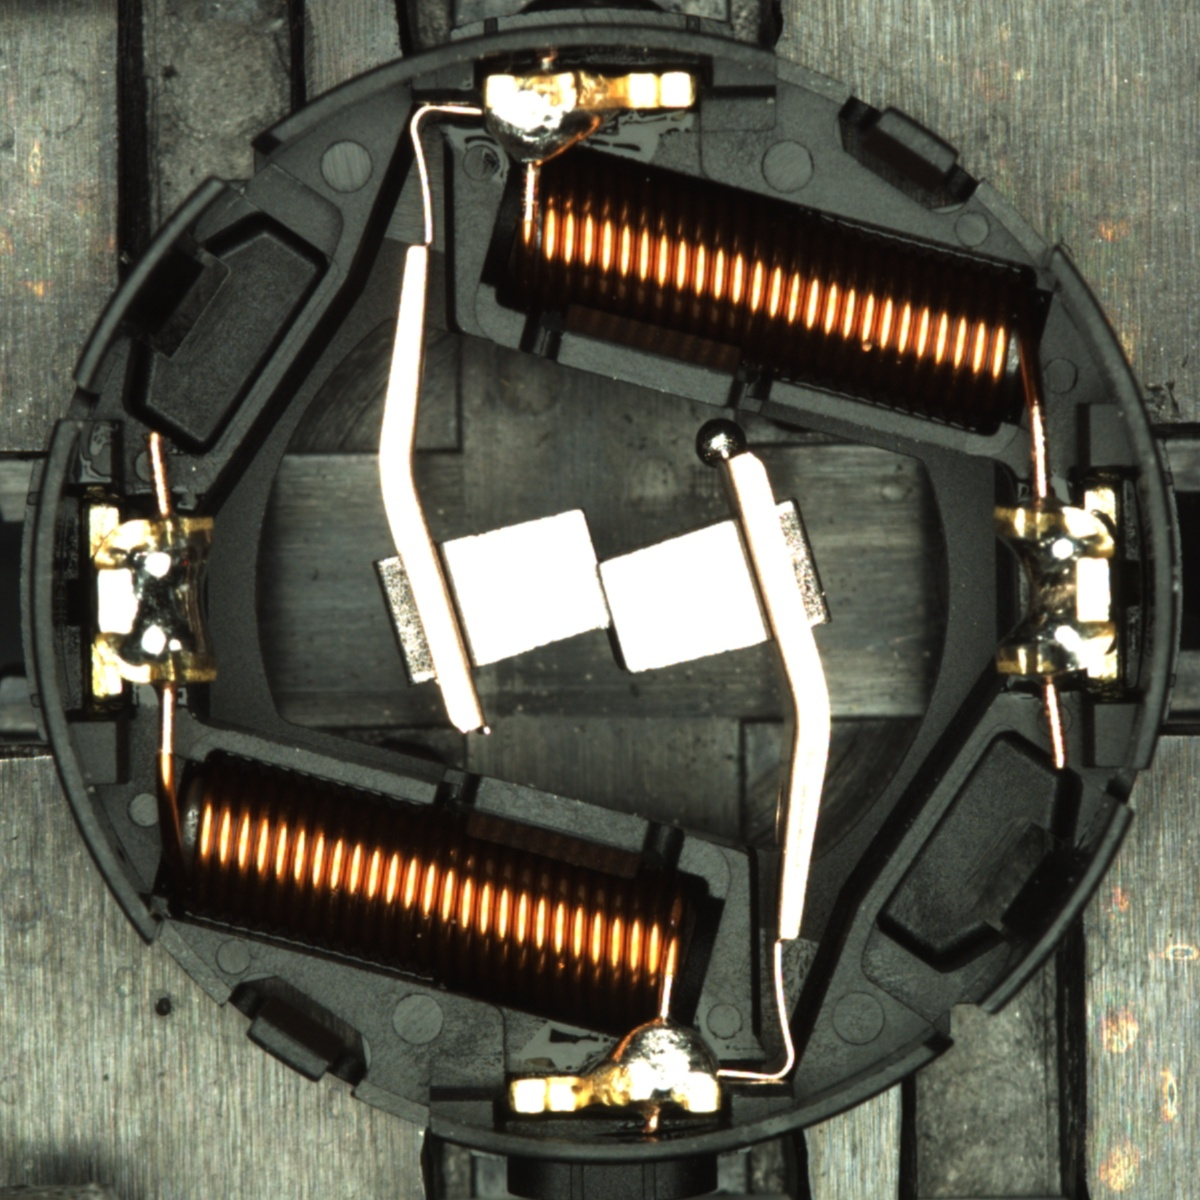1: (258, 55, 487, 279), (716, 953, 945, 1177)
2: (716, 55, 945, 279), (258, 953, 487, 1177)
3: (28, 279, 258, 504), (945, 728, 1175, 953)
4: (258, 279, 487, 504), (716, 728, 945, 953)
5: (487, 167, 716, 392), (487, 840, 716, 1065)
6: (258, 728, 487, 953)
7: (945, 279, 1175, 504), (28, 728, 258, 953)
chau_dien: (81, 499, 221, 700), (985, 487, 1125, 686)
hat_chi: (695, 418, 746, 469)
tay_choi: (481, 68, 699, 167), (509, 1017, 722, 1117)
thanh_de: (954, 787, 1141, 1030), (59, 163, 246, 405)
